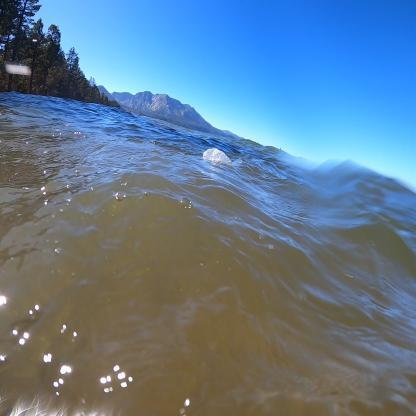Rác: (197, 136, 232, 178)
